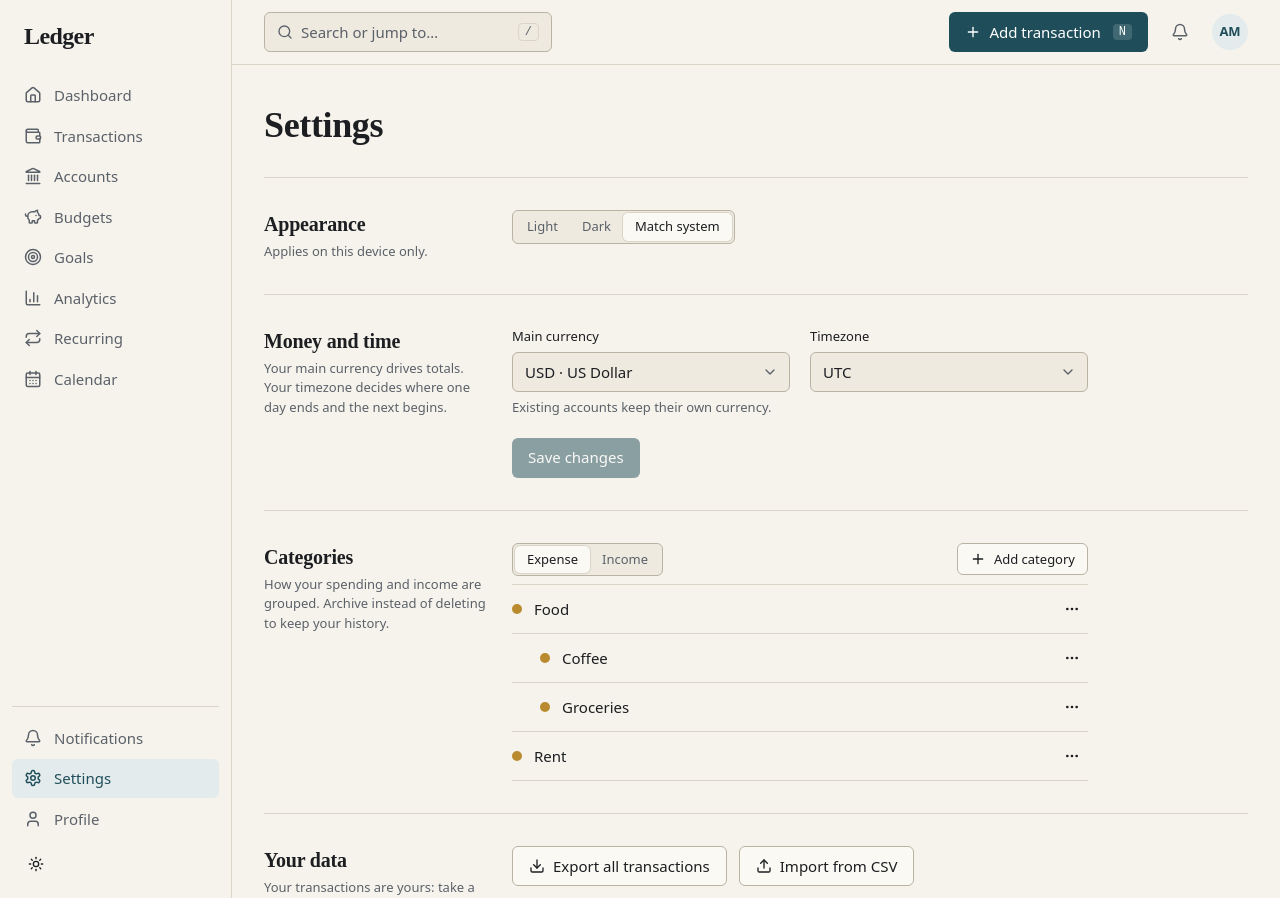
it: category manager (Settings) › shows the tree: top-level categories with subcategories beneath
Expected: the text "Food" is shown, x1=534 y1=599 x2=569 y2=619
Expected: the text "Coffee" is shown, x1=562 y1=648 x2=608 y2=668
Click the radio button labelled "Income": (625, 558) x1=602 y1=550 x2=648 y2=568
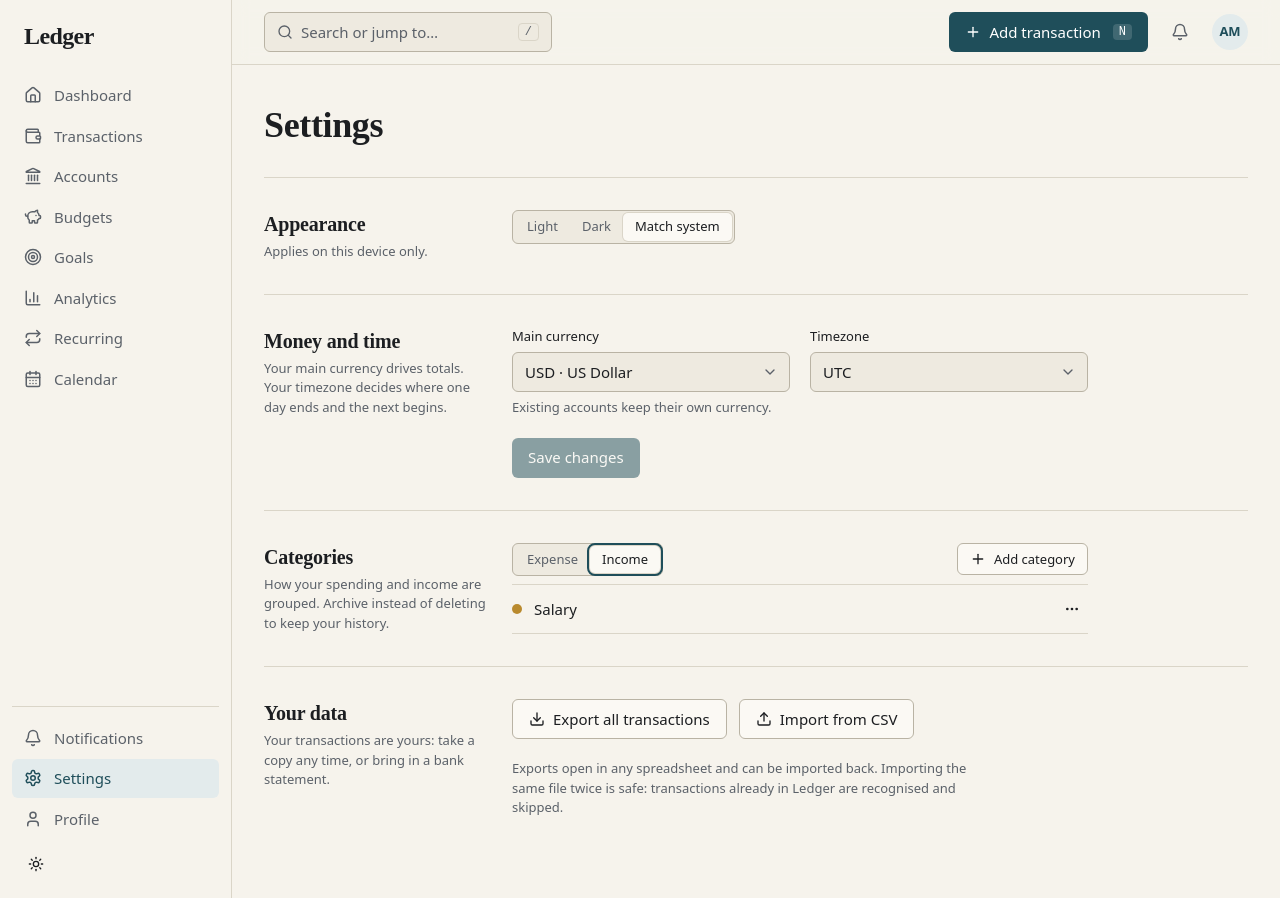
Expected: the text "Salary" is shown, x1=534 y1=599 x2=577 y2=619
